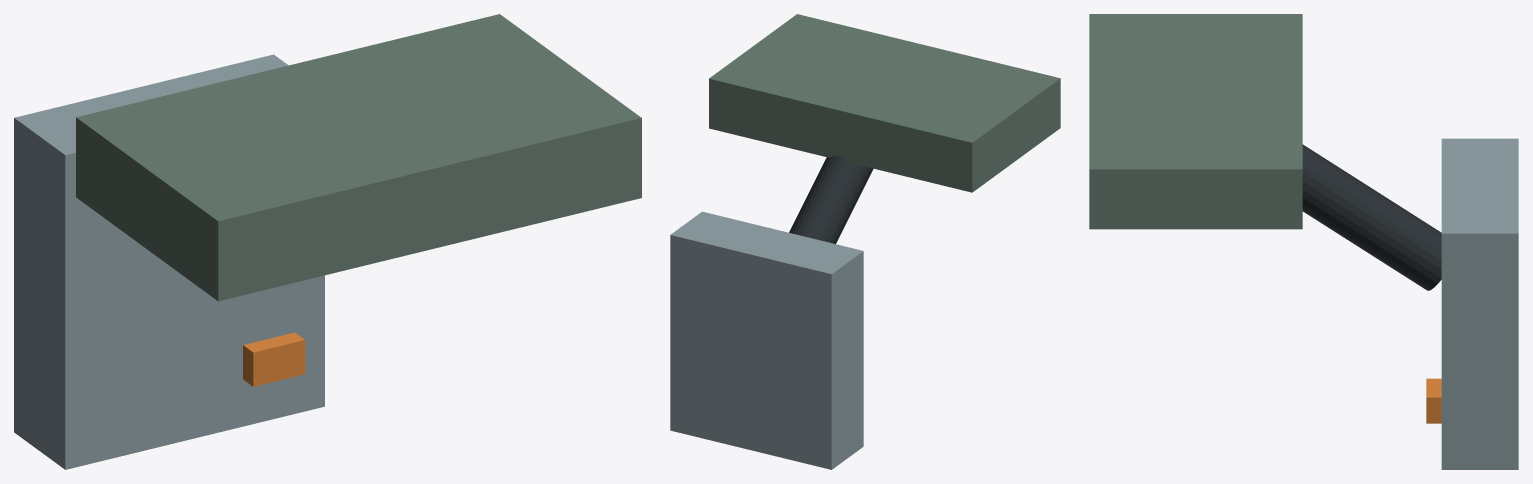
The model's file is OkumaLambasi.glb.
The picture shows the model from 3 angles, left to right: view 1: azimuth 30°, elevation 25°; view 2: azimuth 150°, elevation 25°; view 3: azimuth 270°, elevation 25°; orthographic projection. The views are drawn at different scales.
Parts seen in each view (by area): view 1: Lamba_Govdesi, Lamba_Tabani, Lamba_Dugmesi; view 2: Lamba_Tabani, Lamba_Govdesi, Lamba_Kolu; view 3: Lamba_Govdesi, Lamba_Tabani, Lamba_Kolu, Lamba_Dugmesi.
Boxes of the visible parts, box(x1,y1,x2,y2) form: Lamba_Govdesi: box(76, 14, 641, 301); Lamba_Tabani: box(14, 54, 324, 469); Lamba_Dugmesi: box(243, 332, 305, 386); Lamba_Tabani: box(670, 211, 863, 469); Lamba_Govdesi: box(709, 14, 1060, 192); Lamba_Kolu: box(789, 155, 873, 243); Lamba_Govdesi: box(1089, 14, 1302, 229); Lamba_Tabani: box(1441, 138, 1518, 469); Lamba_Kolu: box(1302, 144, 1441, 290); Lamba_Dugmesi: box(1426, 378, 1441, 423).
Bounding box in the file's own units: 0.31 × 0.308 × 0.3625.
